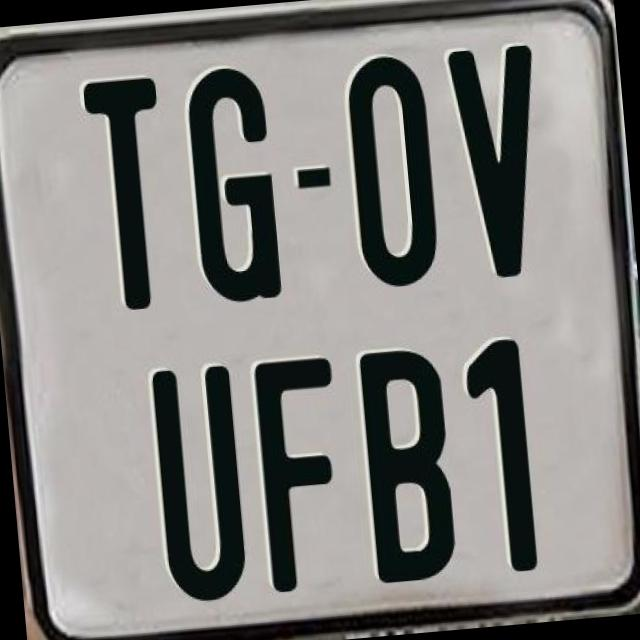0: (340, 50, 438, 288)
1: (460, 335, 540, 579)
B: (358, 345, 462, 582)
F: (251, 352, 357, 596)
G: (181, 65, 283, 314)
T: (80, 72, 172, 314)
U: (149, 360, 254, 608)
V: (442, 42, 552, 280)
